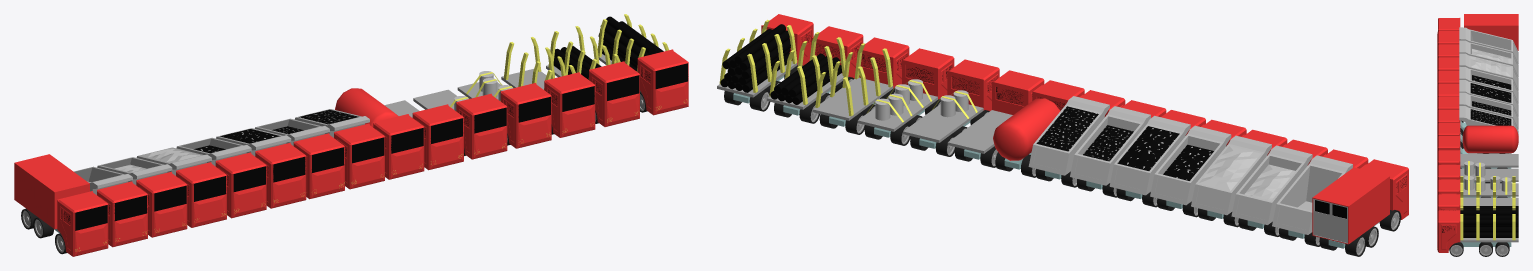
Rendered from truck.dae.
3 views of the same model, side by side, from view 1: azimuth 30°, elevation 25°; view 2: azimuth 150°, elevation 25°; view 3: azimuth 270°, elevation 25° (orthographic). The views are drawn at different scales.
Visible parts, largest first — view 1: box (×15), Component_4_1 (×7), Component_2, capsule, Component_13_3, box3, box5, box4, Component_13_4, cylinder28; view 2: box (×15), Component_4_1 (×7), Component_5_1 (×7), Component_2, capsule, Component_13_4 (×3), box5, box4, box3, Component_13_3, Component_13_1, box7 (+7 smaller); view 3: box (×15), Component_4_1 (×7), capsule, Component_2, Component_13_1, Component_13_4 (×2), Component_13_3, Component_5_1 (×6), box3, box4, box5, Component_13_2 (+21 smaller).
Part boxes in pixels (<box>): box (×15): <box>57,49,688,256</box>; Component_4_1 (×7): <box>87,109,369,194</box>; Component_2: <box>14,154,89,229</box>; capsule: <box>335,88,398,127</box>; Component_13_3: <box>413,89,456,109</box>; box3: <box>140,148,200,162</box>; box5: <box>299,109,358,124</box>; box4: <box>220,129,280,143</box>; Component_13_4: <box>501,69,550,89</box>; cylinder28: <box>606,16,655,54</box>; box (×15): <box>761,14,1408,219</box>; Component_4_1 (×7): <box>1028,96,1352,234</box>; Component_5_1 (×7): <box>1031,144,1310,231</box>; Component_2: <box>1312,167,1389,244</box>; capsule: <box>993,98,1060,160</box>; Component_13_4 (×3): <box>717,61,893,120</box>; box5: <box>1036,106,1098,151</box>; box4: <box>1117,126,1179,170</box>; box3: <box>1199,146,1260,190</box>; Component_13_3: <box>903,104,983,142</box>; Component_13_1: <box>947,110,1012,153</box>; box7: <box>1083,125,1133,161</box>; box (×15): <box>1437,18,1460,252</box>; Component_4_1 (×7): <box>1459,27,1518,135</box>; capsule: <box>1462,125,1518,153</box>; Component_2: <box>1464,14,1518,50</box>; Component_13_1: <box>1460,154,1518,167</box>; Component_13_4 (×2): <box>1460,197,1518,242</box>; Component_13_3: <box>1460,168,1518,181</box>; Component_5_1 (×6): <box>1511,40,1517,126</box>; box3: <box>1470,56,1511,76</box>; box4: <box>1470,83,1511,102</box>; box5: <box>1470,109,1511,125</box>; Component_13_2: <box>1463,183,1518,196</box>.
Bounding box in the file's own units: 35.74 × 6.03 × 3.27.
